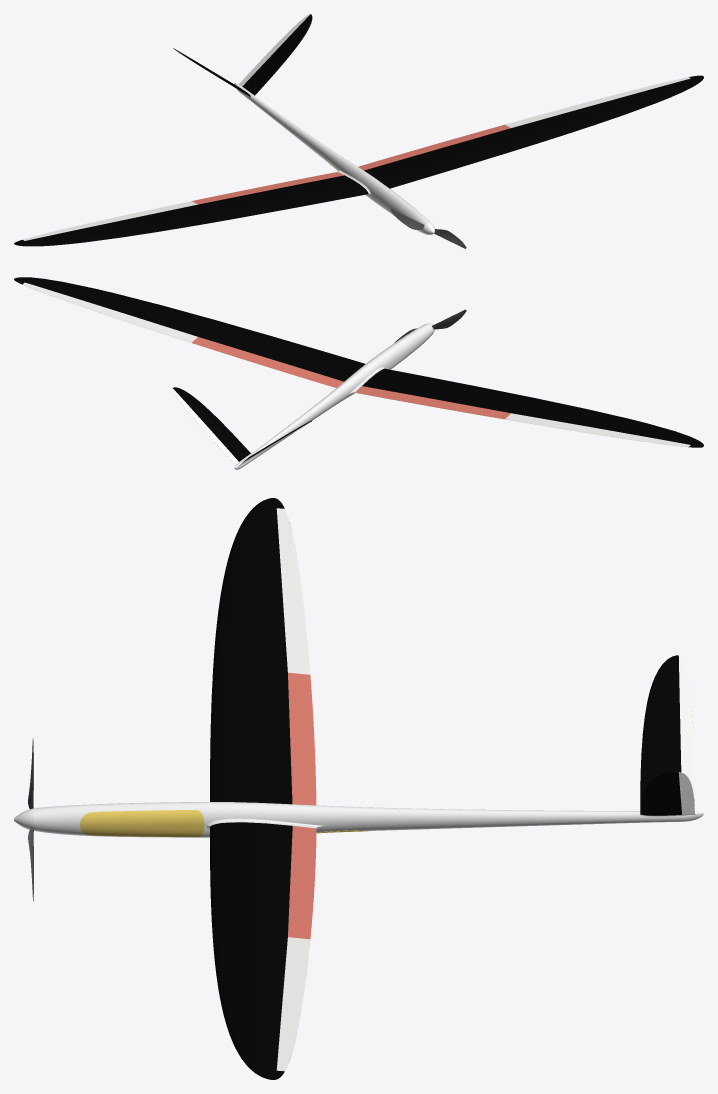
Rendered from render2.glb.
The picture shows the model from 3 angles, top to bottom: view 1: azimuth 30°, elevation 25°; view 2: azimuth 150°, elevation 25°; view 3: azimuth 270°, elevation 25°; orthographic projection. The views are drawn at different scales.
Visible parts, largest first — view 1: Left Wing, Right Wing, Fuselage, Left V-Tail Panel, Left Flap, Left Aileron, Right Flap, Right Aileron, Propeller, Left Ruddervator; view 2: Left Wing, Right Wing, Fuselage, Left Flap, Right Flap, Left Aileron, Left V-Tail Panel, Right Aileron, Left Ruddervator, Propeller; view 3: Right Wing, Left Wing, Fuselage, Right V-Tail Panel, Right Flap, Body97, Right Aileron, Left Flap, Left Aileron, Left V-Tail Panel, Right Ruddervator.
Boxes of the visible parts, left/top/right/bottom form: Left Wing: left=364, top=75, right=703, bottom=188; Right Wing: left=14, top=175, right=368, bottom=246; Fuselage: left=234, top=83, right=430, bottom=233; Left V-Tail Panel: left=242, top=14, right=312, bottom=95; Left Flap: left=358, top=124, right=510, bottom=170; Left Aileron: left=505, top=77, right=690, bottom=127; Right Flap: left=192, top=172, right=343, bottom=204; Right Aileron: left=23, top=201, right=197, bottom=240; Propeller: left=390, top=208, right=466, bottom=248; Left Ruddervator: left=239, top=14, right=310, bottom=86; Left Wing: left=14, top=277, right=364, bottom=381; Right Wing: left=362, top=368, right=703, bottom=447; Fuselage: left=234, top=324, right=433, bottom=469; Left Flap: left=192, top=337, right=343, bottom=387; Right Flap: left=355, top=386, right=510, bottom=419; Left Aileron: left=22, top=282, right=197, bottom=342; Left V-Tail Panel: left=173, top=387, right=250, bottom=461; Right Aileron: left=505, top=413, right=690, bottom=447; Left Ruddervator: left=172, top=388, right=238, bottom=464; Propeller: left=394, top=309, right=466, bottom=342; Right Wing: left=210, top=498, right=292, bottom=804; Left Wing: left=210, top=822, right=292, bottom=1079; Fuselage: left=34, top=802, right=703, bottom=837; Right V-Tail Panel: left=640, top=655, right=681, bottom=805; Right Flap: left=288, top=672, right=316, bottom=805; Body97: left=80, top=810, right=204, bottom=837; Right Aileron: left=276, top=508, right=310, bottom=674; Left Flap: left=288, top=826, right=316, bottom=939; Left Aileron: left=276, top=937, right=310, bottom=1071; Left V-Tail Panel: left=640, top=772, right=681, bottom=815; Right Ruddervator: left=678, top=655, right=694, bottom=810.
Bounding box in the file's own units: 3.02 × 0.3791 × 1.51.
